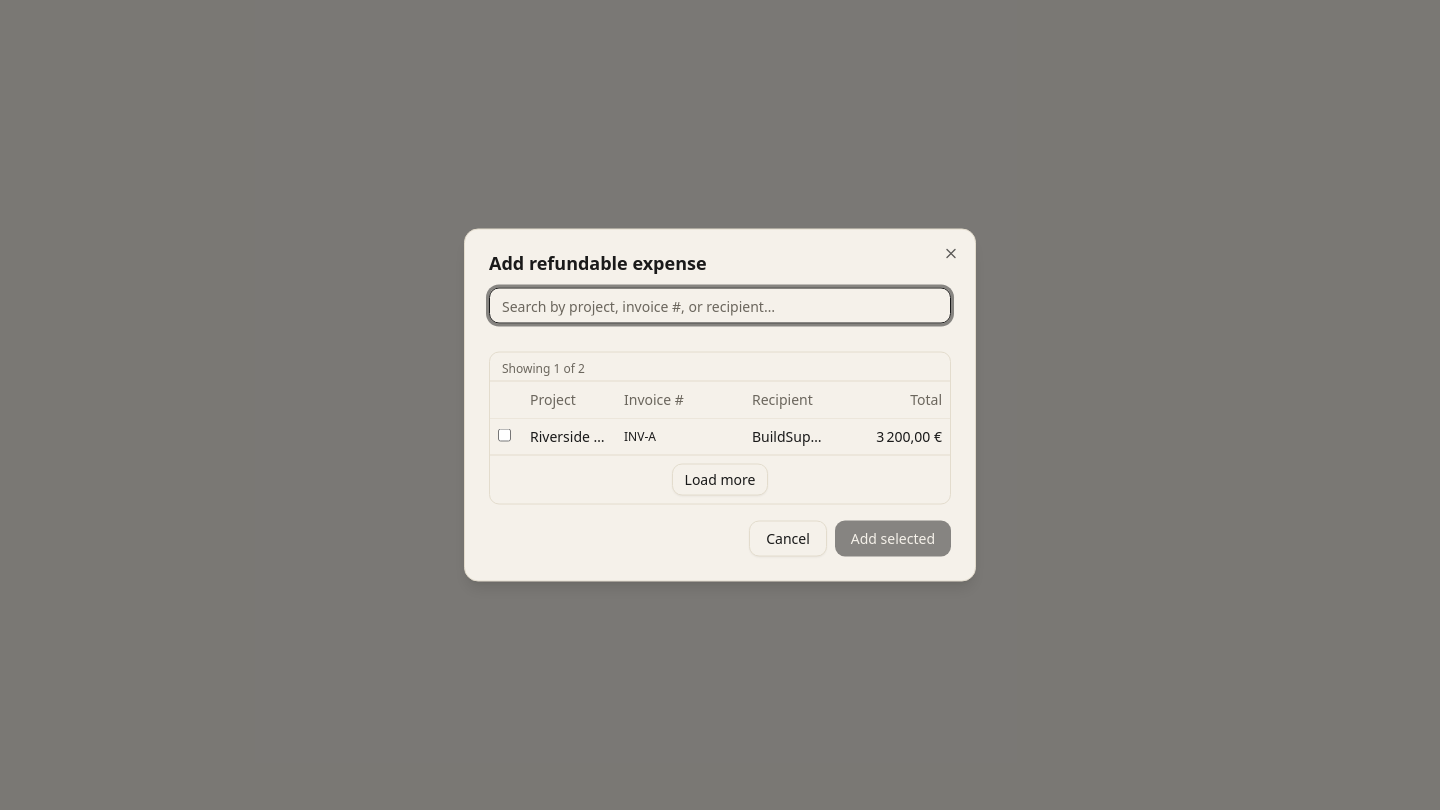
Test: AddRefundableExpenseDialog — past the first 200 candidates › loads the next page after the loaded rows
The width and height of the screenshot is (1440, 810).
Expected: the text "INV-A" is shown, top-left (616, 418), bottom-right (744, 454)
Expected: the text "Showing 1 of 2" is shown, top-left (490, 352), bottom-right (950, 382)
Step 1. Click the button "Load more" → (720, 480), box top-left (672, 464), bottom-right (768, 496)
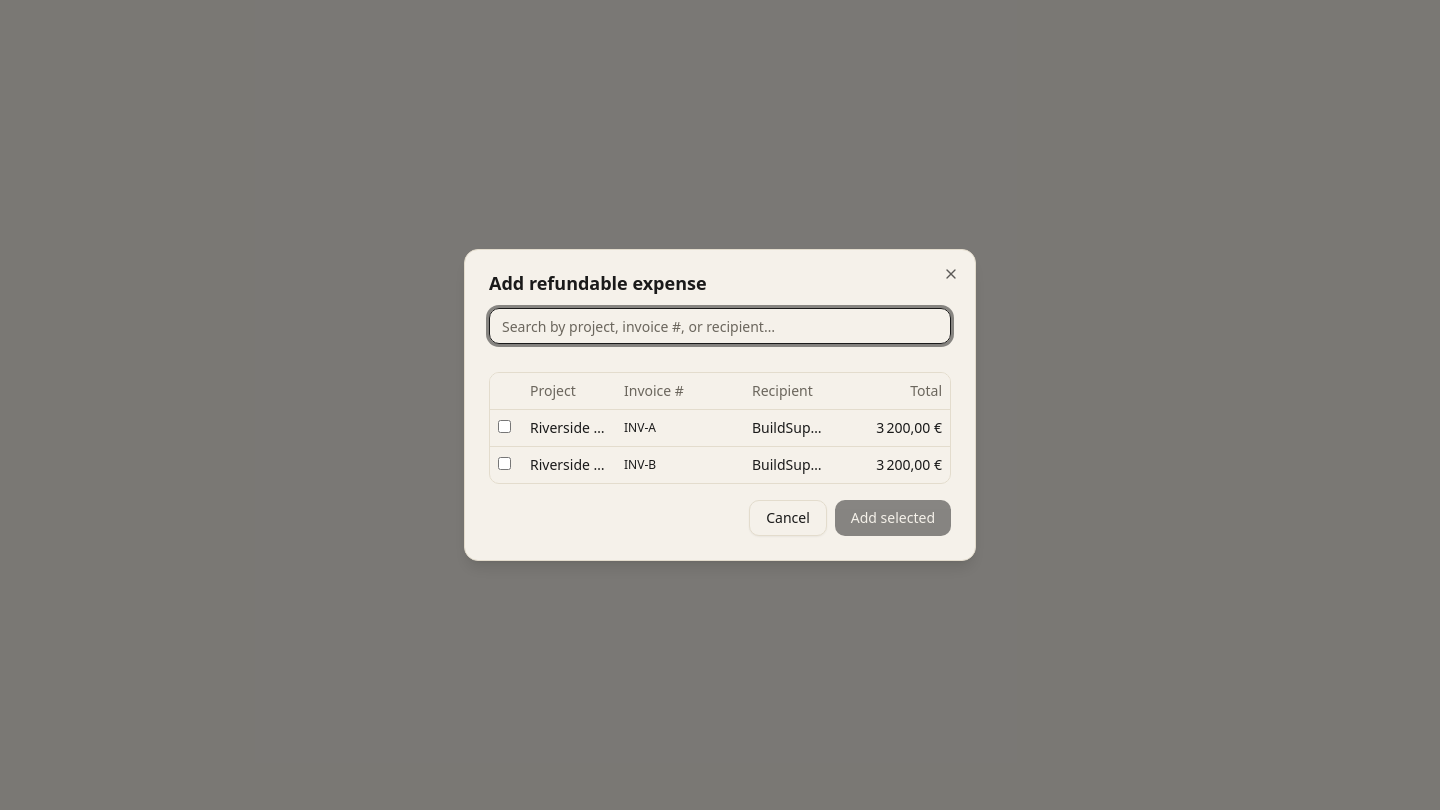
Expected: the text "INV-A" is shown, top-left (616, 410), bottom-right (744, 446)
Expected: the text "INV-B" is shown, top-left (616, 446), bottom-right (744, 483)
Expected: the button "Load more" is gone
